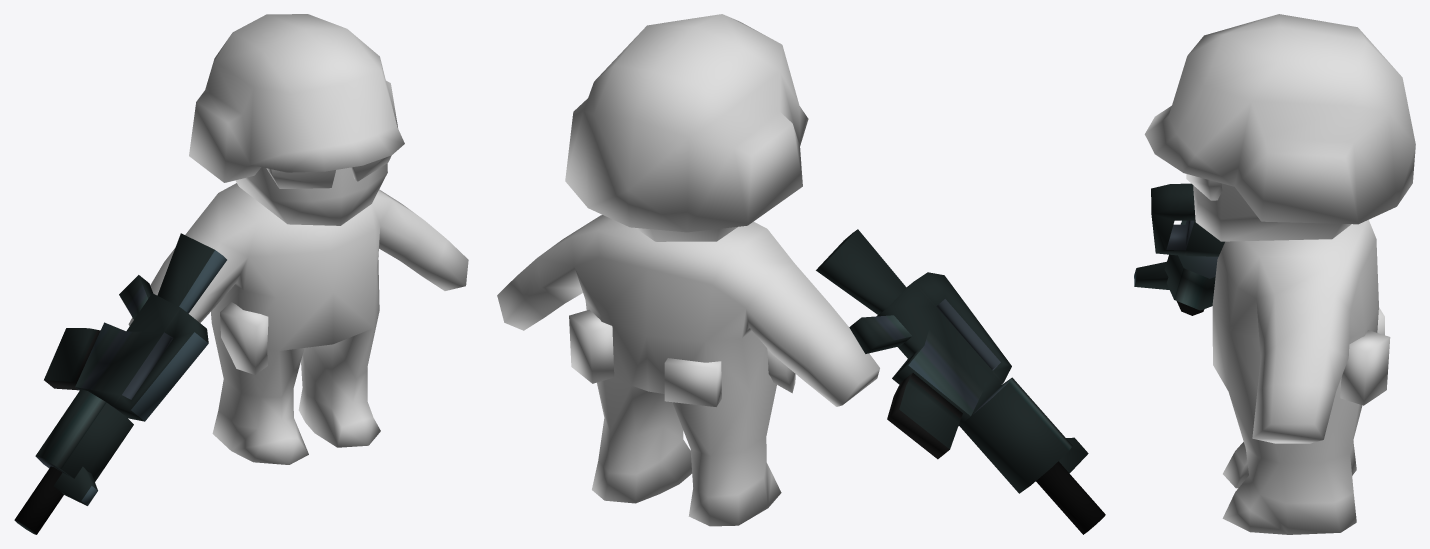
Rendered from TommyGunnerPVP.fbx.
3 renders of one model, left to right at view 1: azimuth 30°, elevation 25°; view 2: azimuth 150°, elevation 25°; view 3: azimuth 270°, elevation 25°, orthographic. The views are drawn at different scales.
Parts seen in each view (by area): view 1: TommyGunnerModel, w_m4; view 2: TommyGunnerModel, w_m4; view 3: TommyGunnerModel, w_m4.
Part boxes in pixels (box(x1,y1,x2,y2)): TommyGunnerModel: box(128, 14, 468, 464); w_m4: box(14, 233, 226, 534); TommyGunnerModel: box(497, 14, 879, 526); w_m4: box(816, 229, 1105, 534); TommyGunnerModel: box(1144, 14, 1415, 534); w_m4: box(1134, 183, 1224, 315).
Bounding box in the file's own units: 1.36 × 1.09 × 0.5944.
